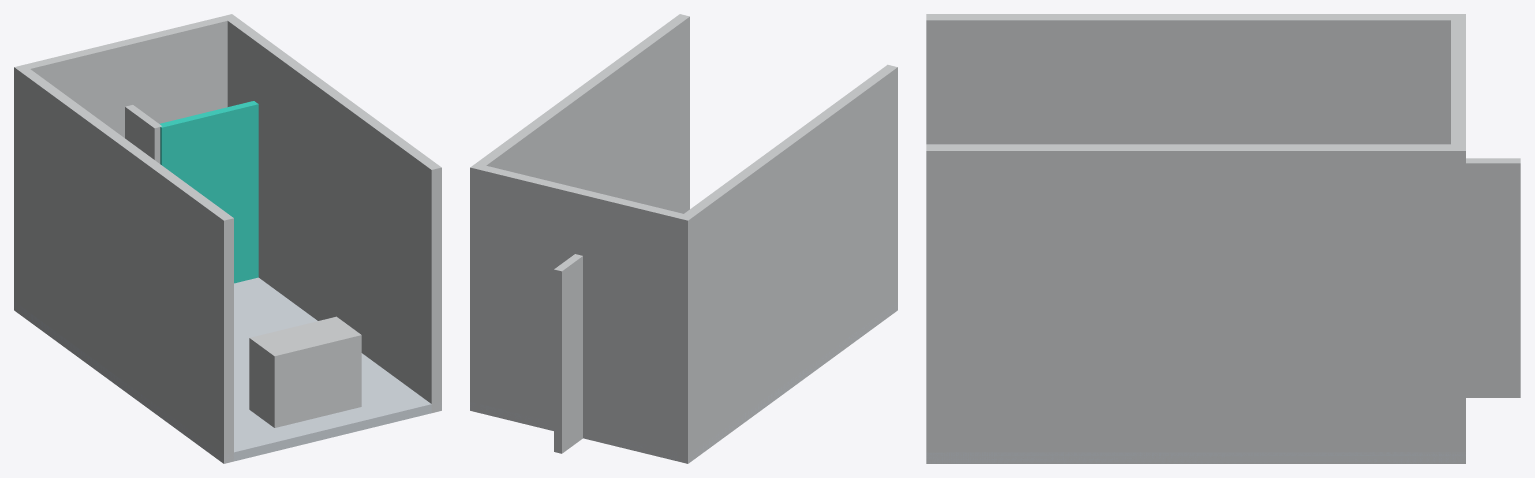
The picture shows the model from 3 angles, left to right: view 1: azimuth 30°, elevation 25°; view 2: azimuth 150°, elevation 25°; view 3: azimuth 270°, elevation 25°; orthographic projection. The views are drawn at different scales.
Parts seen in each view (by area): view 1: Exhibition Booth Concept; view 2: Exhibition Booth Concept; view 3: Exhibition Booth Concept.
Boxes of the visible parts, <box> form: Exhibition Booth Concept: <box>14,14,441,463</box>; Exhibition Booth Concept: <box>470,14,897,463</box>; Exhibition Booth Concept: <box>926,14,1520,463</box>.
Bounding box in the file's own units: 3 × 3.2 × 5.51.
